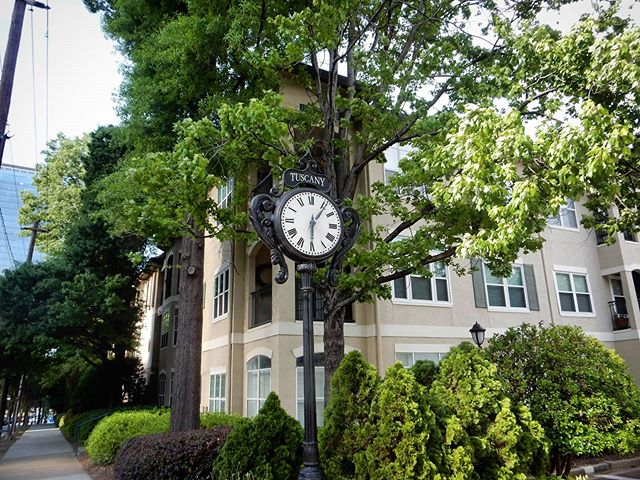building: (199, 96, 640, 417)
clock: (265, 181, 358, 270)
tree: (123, 1, 632, 319)
vegetation: (333, 326, 640, 480)
